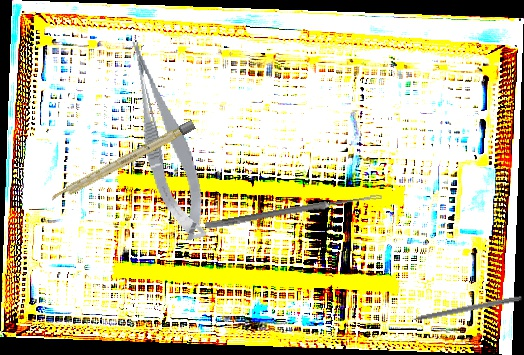Hook Surgical: (397, 294, 523, 325)
Micro Scissor: (121, 33, 213, 246)
Scalpel Handle: (49, 119, 196, 205)
Surgical Spoon: (204, 191, 383, 231)
